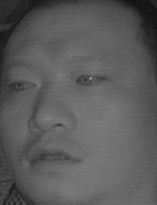eye: (73, 67, 108, 90), (6, 71, 38, 94)
mouth: (23, 139, 84, 175)
